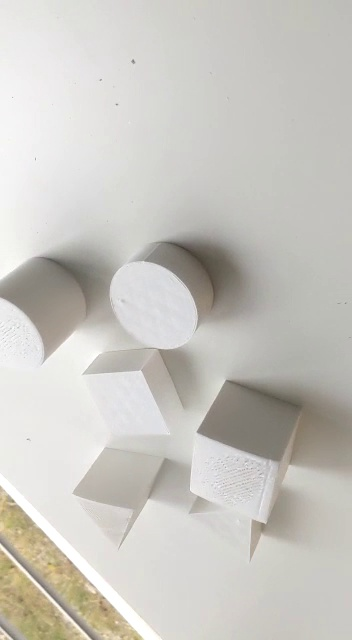Clyinder_short: (107, 238, 215, 351)
Cube: (186, 377, 305, 527)
Cube_short: (79, 348, 194, 447)
Cylinder: (1, 254, 93, 371)
Triangle: (64, 443, 169, 553)
Triangle_short: (184, 493, 259, 567)
